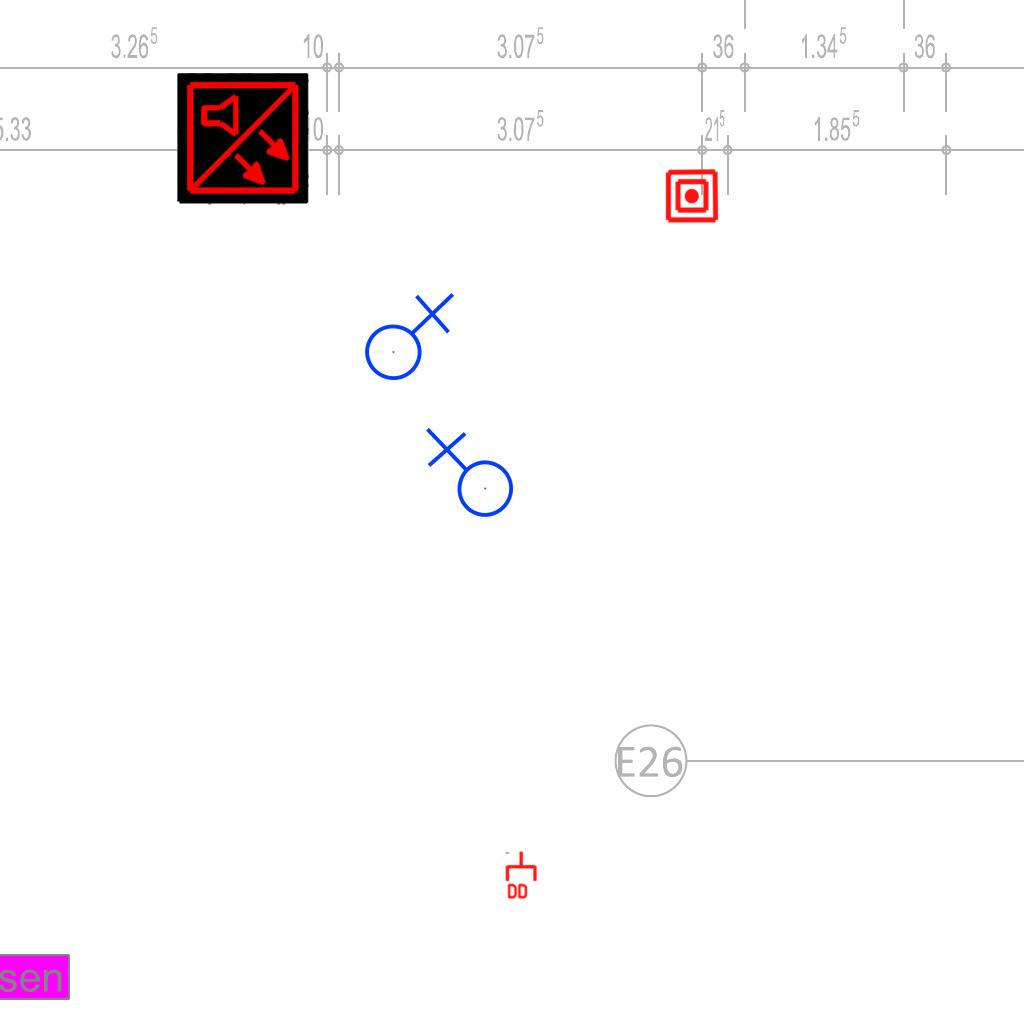Datenanschluss_zweifach: (505, 850, 539, 901)
Elektroanschluss_allgemein_230V_Geraeteanschlussdose_230V: (356, 288, 455, 382), (421, 427, 515, 526)
NAM-Nichtautomatischer_Melder: (664, 168, 720, 224)
OKW_Multisensormelder_(Kombination_optischer_Rauch-Kahlenmonoxid_Waerme-Melder): (177, 73, 309, 205)
